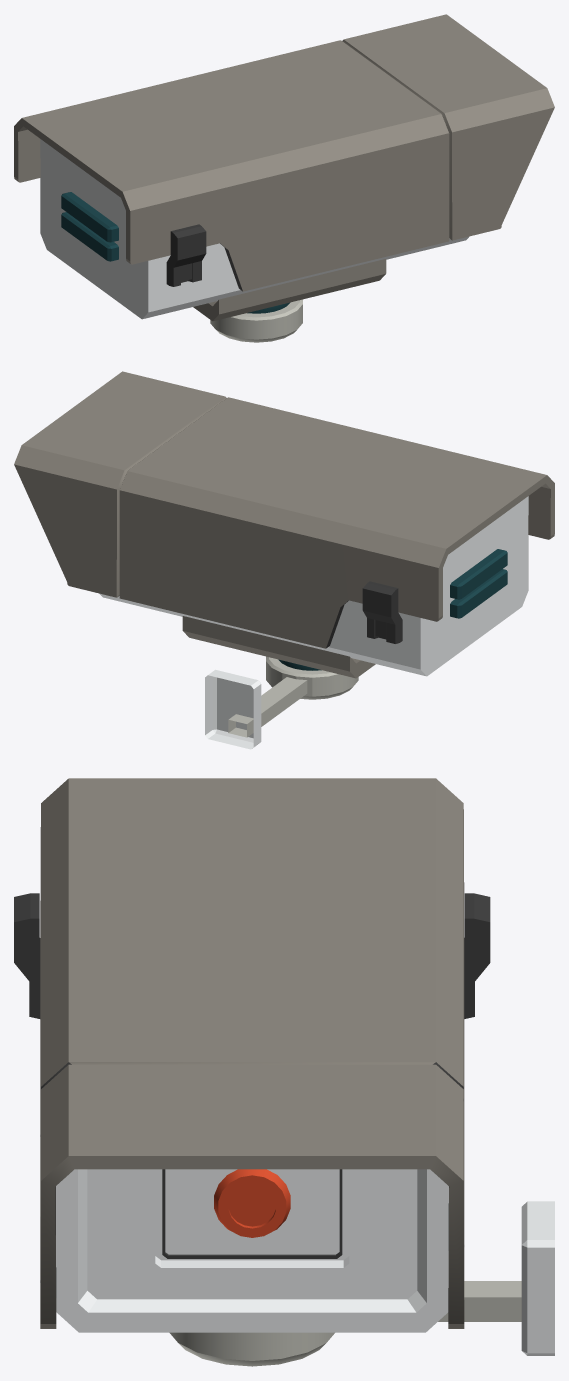
Rendered from SecurityCamera.FBX.
The picture shows the model from 3 angles, top to bottom: view 1: azimuth 30°, elevation 25°; view 2: azimuth 150°, elevation 25°; view 3: azimuth 270°, elevation 25°; orthographic projection. The views are drawn at different scales.
Visible parts, largest first — view 1: SecurityCamera, SecurityCameraBase; view 2: SecurityCamera, SecurityCameraBase; view 3: SecurityCamera, SecurityCameraBase.
Boxes of the visible parts, x1,y1,x2,y2 form: SecurityCamera: [14, 14, 554, 321]; SecurityCameraBase: [210, 299, 302, 342]; SecurityCamera: [14, 371, 554, 678]; SecurityCameraBase: [205, 656, 358, 749]; SecurityCamera: [14, 778, 490, 1332]; SecurityCameraBase: [169, 1201, 554, 1366].
Size of the model in its own units: 82.85 by 40.73 by 50.15.
